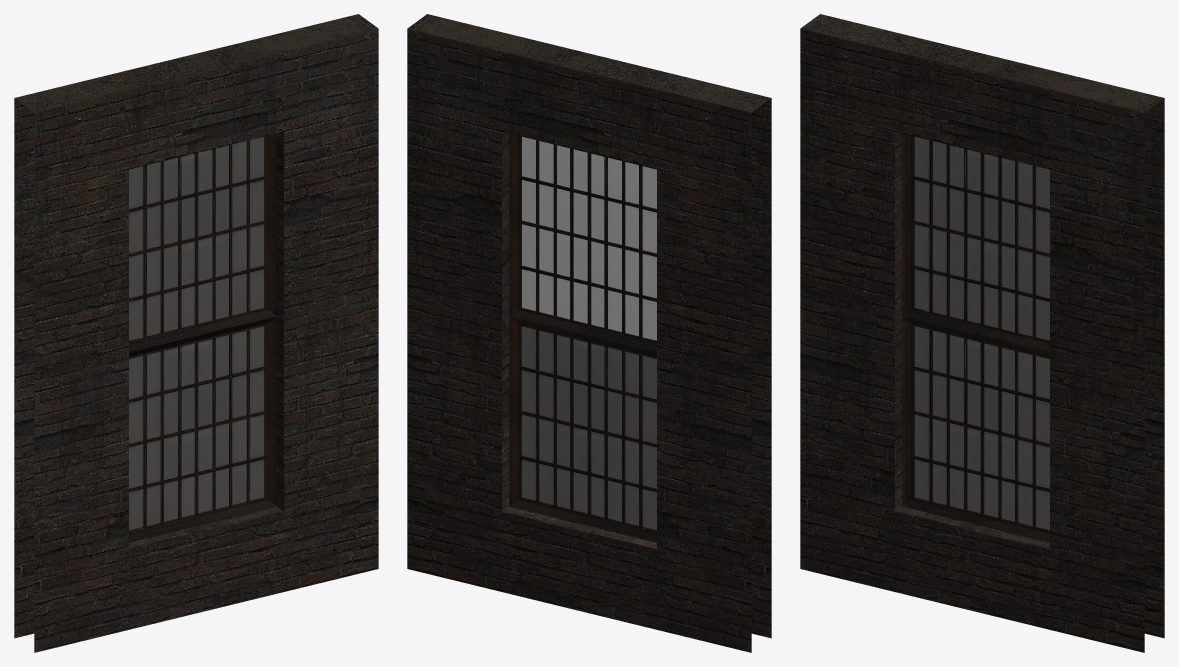
The model's file is wall_hs_1_m_2.glb.
The picture shows the model from 3 angles, left to right: view 1: azimuth 30°, elevation 25°; view 2: azimuth 150°, elevation 25°; view 3: azimuth 330°, elevation 25°; orthographic projection.
Parts seen in each view (by area): view 1: wall_hs_1_m_2; view 2: wall_hs_1_m_2; view 3: wall_hs_1_m_2.
Part boxes in pixels (x1,y1,x2,y2): wall_hs_1_m_2: (14, 14, 378, 652); wall_hs_1_m_2: (407, 14, 771, 652); wall_hs_1_m_2: (800, 14, 1164, 652).
Size of the model in its own units: 4 by 6 by 0.4.
4 materials, 4 textured.
